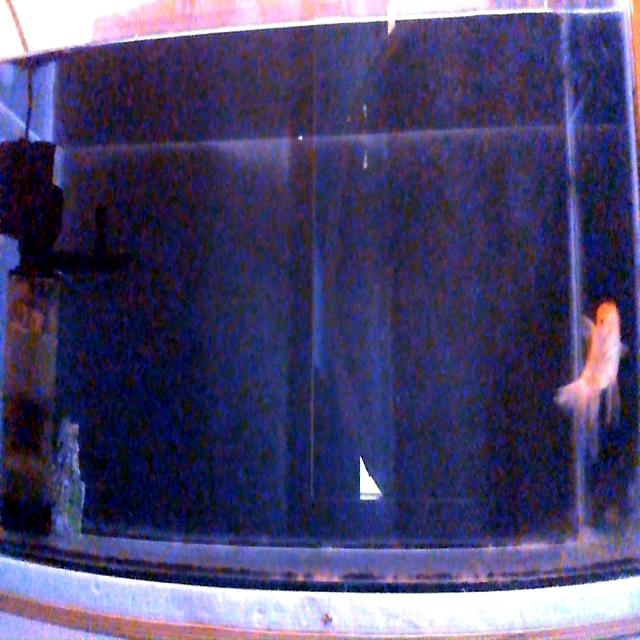fish: (555, 300, 622, 430)
